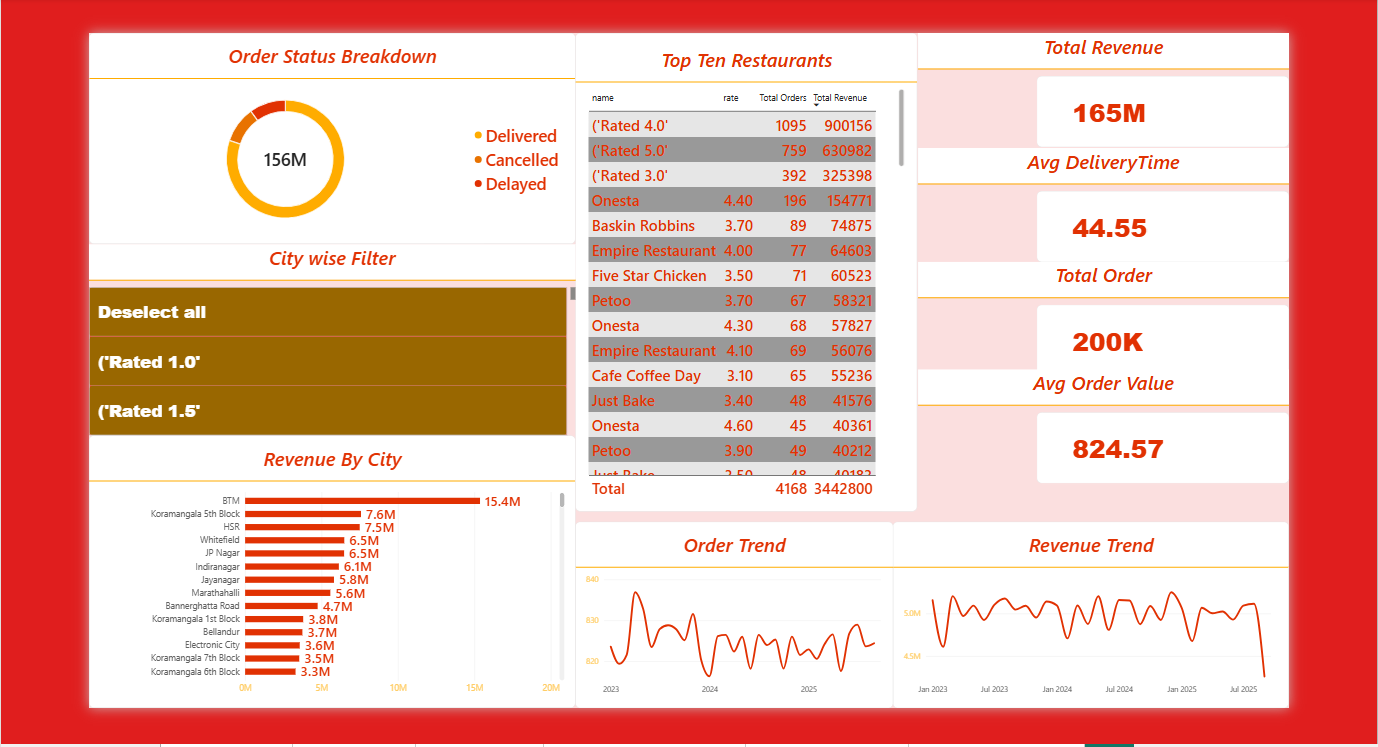

This screenshot's page, from the dashboard's own definition file:
{"tool":"powerbi","page":{"name":"Exclusive","canvas":[1920,1080],"ordinal":0},"visuals":[{"type":"cardVisual","title":"Total Revenue","fields":{"Data":["Orders.Total Revenue"]},"box":[1325.6,0,594.9,183.2],"z":0},{"type":"cardVisual","title":"Total Order","fields":{"Data":["Orders.Total Orders"]},"box":[1325.6,366.4,594.9,183.2],"z":1000},{"type":"cardVisual","title":"Avg Order Value","fields":{"Data":["Orders.Avg Order Value"]},"box":[1325.6,538.8,594.9,183.2],"z":2000},{"type":"cardVisual","title":"Avg DeliveryTime","fields":{"Data":["Orders.Avg Delivery Time"]},"box":[1325.6,183.2,594.9,183.2],"z":3000},{"type":"lineChart","title":"Revenue Trend","fields":{"Category":["DateTable.Date.Variation.Date Hierarchy.Year","DateTable.Date.Variation.Date Hierarchy.Month"],"Y":["Orders.Total Revenue"]},"box":[1286.5,782.2,634,298.5],"z":4000},{"type":"lineChart","title":"Order Trend","fields":{"Category":["DateTable.Date.Variation.Date Hierarchy.Year","DateTable.Date.Variation.Date Hierarchy.Month"],"Y":["Orders.Avg Order Value"]},"box":[778,782.2,508.4,298.5],"z":5000},{"type":"clusteredBarChart","title":"Revenue By City","fields":{"Category":["Customers.FilterCity"],"Y":["Orders.Total Revenue"]},"box":[0,644.3,778,436.4],"z":6000},{"type":"donutChart","title":"Order Status Breakdown","fields":{"Category":["Orders.OrderStatus"],"Y":["Orders.Total Revenue"]},"box":[0,0,778,337.6],"z":7000},{"type":"tableEx","title":"Top Ten Restaurants","fields":{"Values":["Restaurants.name","Restaurants.rate","Orders.Total Orders","Orders.Total Revenue"]},"box":[778,0,547.5,765.7],"z":8000},{"type":"advancedSlicerVisual","title":"City wise Filter","fields":{"Values":["Customers.FilterCity"]},"box":[0,337.6,778,306.7],"z":8002}]}

Visuals, with their boxes on the page's 1920x1080 design canvas (x1, y1, x2, y2). These are canvas units, not pixel positions in the 1378x747 screenshot, which may show the page scaled, cropped or inside an application window:
"Total Revenue" cardVisual: [1326, 0, 1920, 183]
"Total Order" cardVisual: [1326, 366, 1920, 550]
"Avg Order Value" cardVisual: [1326, 539, 1920, 722]
"Avg DeliveryTime" cardVisual: [1326, 183, 1920, 366]
"Revenue Trend" lineChart: [1286, 782, 1920, 1081]
"Order Trend" lineChart: [778, 782, 1286, 1081]
"Revenue By City" clusteredBarChart: [0, 644, 778, 1081]
"Order Status Breakdown" donutChart: [0, 0, 778, 338]
"Top Ten Restaurants" tableEx: [778, 0, 1326, 766]
"City wise Filter" advancedSlicerVisual: [0, 338, 778, 644]
